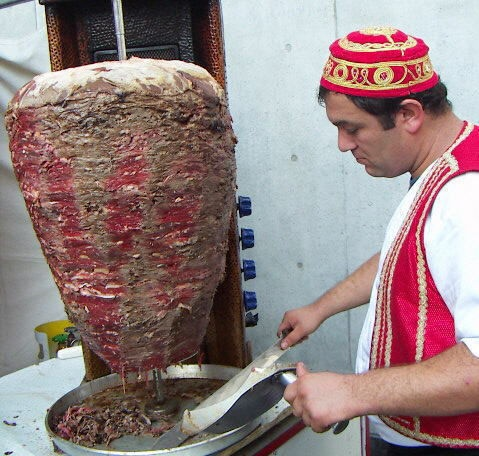head: (324, 28, 452, 178)
person: (272, 28, 479, 454)
